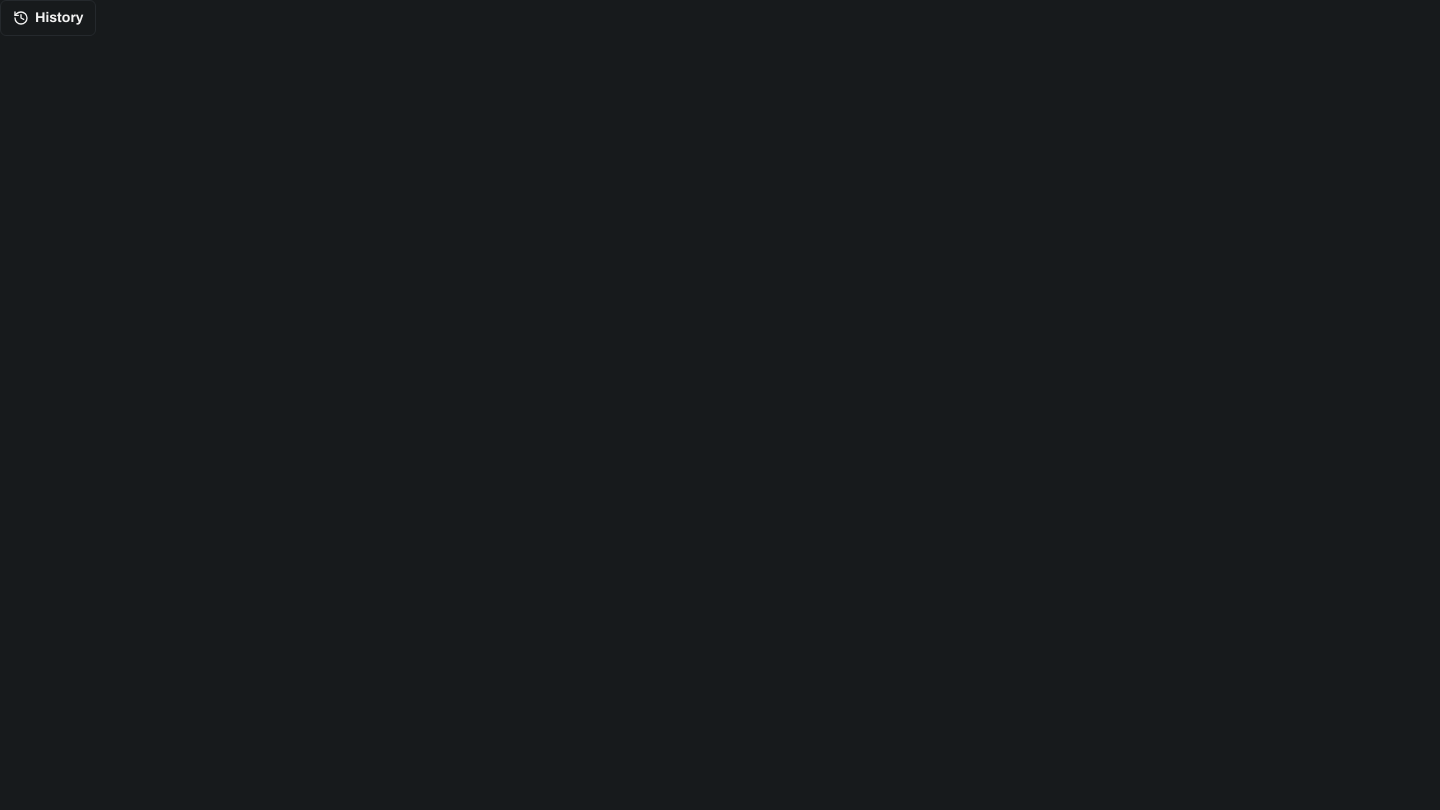
History reopens a game to correct it › shows the Summary kept with the record
Click the button "History".
click(48, 18)  # box [0,0,96,36]
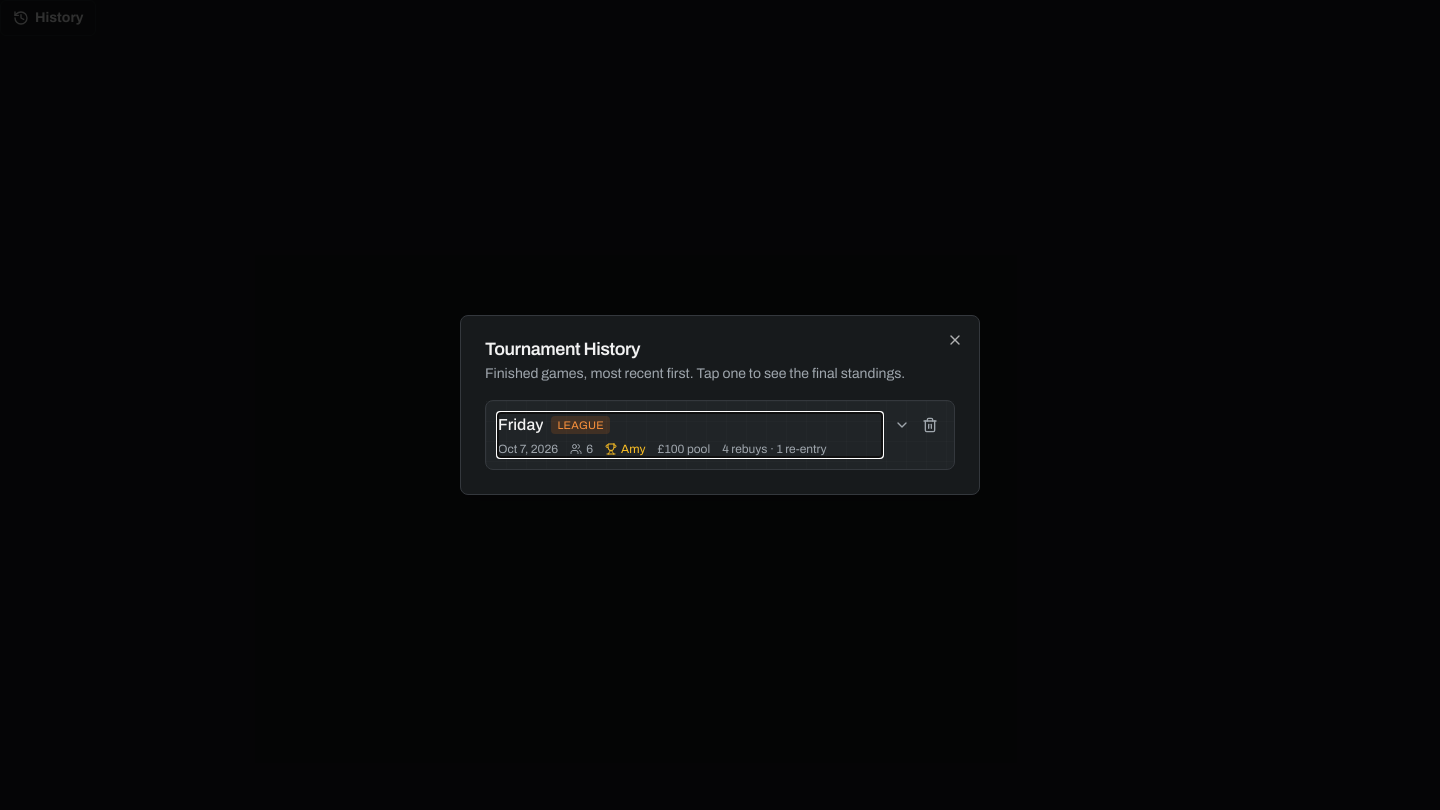
Click the text "Friday".
click(521, 425)  # box [498,413,544,437]
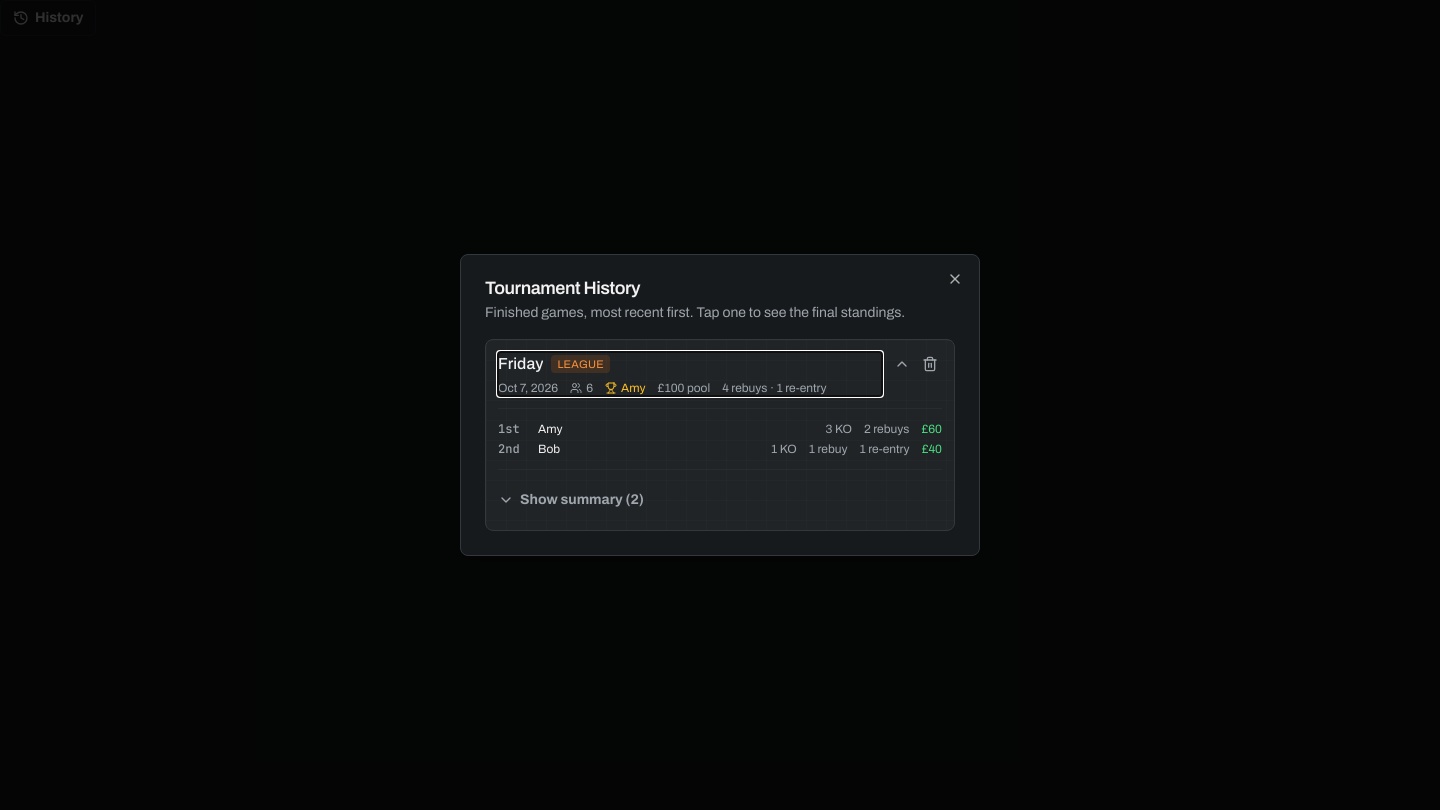
Click the button "Show summary (2)".
click(571, 500)  # box [490,482,652,518]
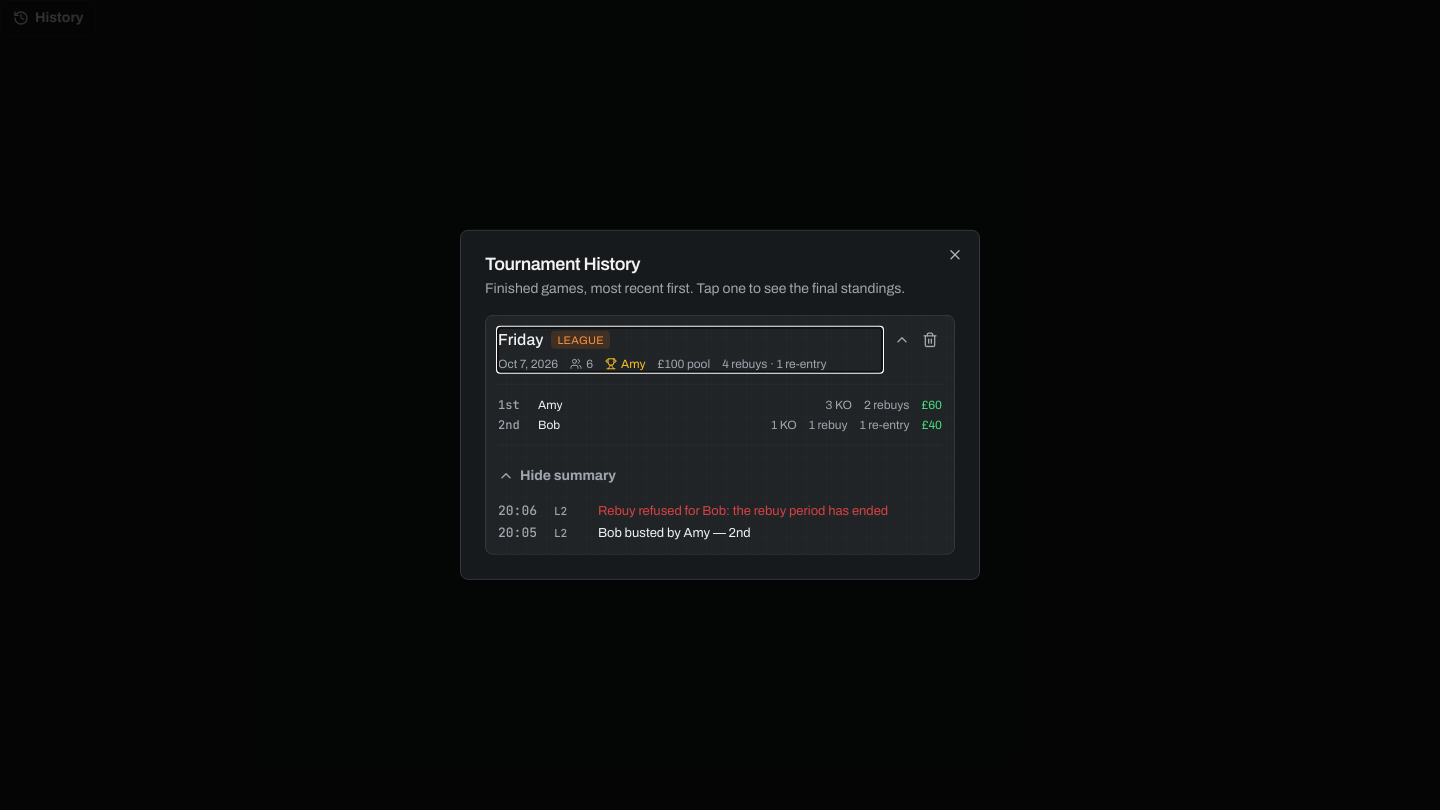
Expected: the text "Bob busted by Amy — 2nd" is shown, [598,524,751,542]
Expected: the text "Rebuy refused for Bob: the rebuy period has ended" is shown, [598,502,888,520]
Expected: the text "20:06" is shown, [498,502,542,520]
